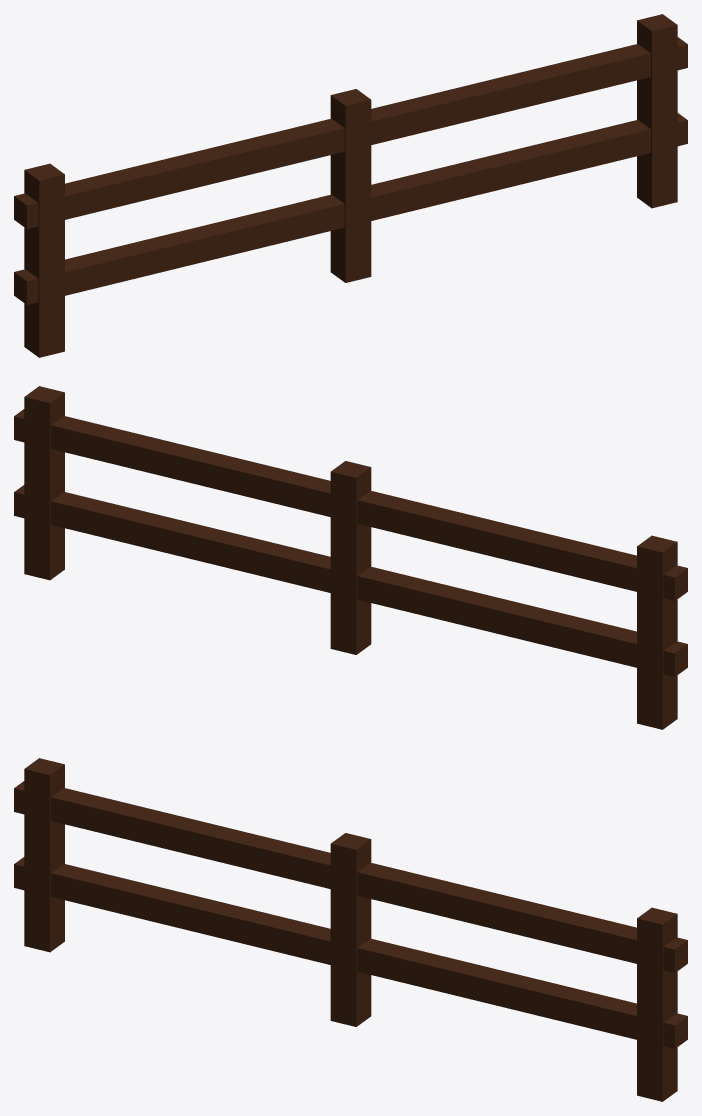
File: fence.obj
The picture shows the model from 3 angles, top to bottom: view 1: azimuth 30°, elevation 25°; view 2: azimuth 150°, elevation 25°; view 3: azimuth 330°, elevation 25°; orthographic projection.
Parts seen in each view (by area): view 1: StoryWorld_Fence; view 2: StoryWorld_Fence; view 3: StoryWorld_Fence.
Part boxes in pixels (x1=…): StoryWorld_Fence: x1=14, y1=14, x2=687, y2=357; StoryWorld_Fence: x1=14, y1=386, x2=687, y2=729; StoryWorld_Fence: x1=14, y1=758, x2=687, y2=1101.
Size of the model in its own units: 8.2 by 2.1 by 0.32.
